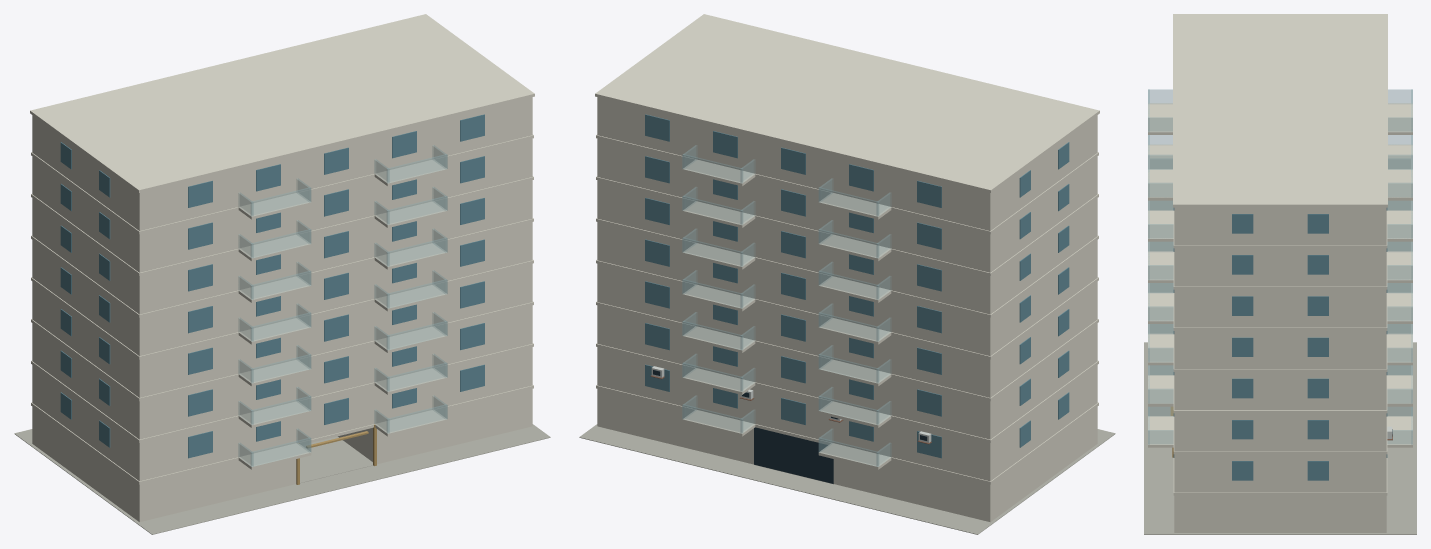
Rendered from hk-mid-01.glb.
3 renders of one model, left to right at view 1: azimuth 30°, elevation 25°; view 2: azimuth 150°, elevation 25°; view 3: azimuth 270°, elevation 25°, orthographic.
Visible parts, largest first — view 1: HK-MID-01-ivory, HK-MID-01-glazing, HK-MID-01-glass, HK-MID-01-stone; view 2: HK-MID-01-ivory, HK-MID-01-glazing, HK-MID-01-glass, HK-MID-01-stone, HK-MID-01-dark; view 3: HK-MID-01-ivory, HK-MID-01-glass, HK-MID-01-stone, HK-MID-01-glazing.
Boxes of the visible parts, x1=… form: HK-MID-01-ivory: x1=30, y1=14, x2=534, y2=522; HK-MID-01-glazing: x1=60, y1=114, x2=484, y2=458; HK-MID-01-glass: x1=238, y1=145, x2=447, y2=466; HK-MID-01-stone: x1=14, y1=424, x2=550, y2=534; HK-MID-01-ivory: x1=595, y1=14, x2=1099, y2=522; HK-MID-01-glazing: x1=645, y1=114, x2=1069, y2=458; HK-MID-01-glass: x1=682, y1=145, x2=891, y2=466; HK-MID-01-stone: x1=579, y1=424, x2=1115, y2=534; HK-MID-01-dark: x1=653, y1=370, x2=927, y2=483; HK-MID-01-ivory: x1=1148, y1=14, x2=1412, y2=532; HK-MID-01-glass: x1=1148, y1=89, x2=1412, y2=444; HK-MID-01-stone: x1=1144, y1=342, x2=1416, y2=534; HK-MID-01-glazing: x1=1173, y1=208, x2=1387, y2=480.
Size of the model in its own units: 30 by 24 by 18.
